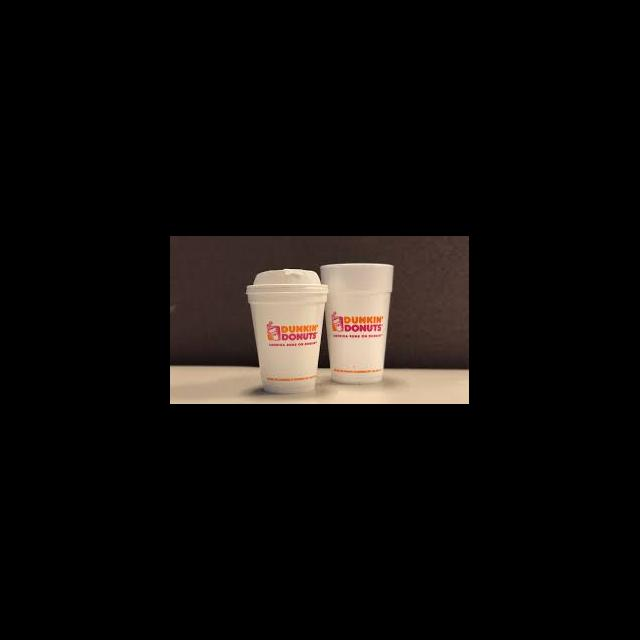paper: (245, 286, 328, 393), (320, 262, 392, 385)
plastic: (245, 268, 328, 292)
